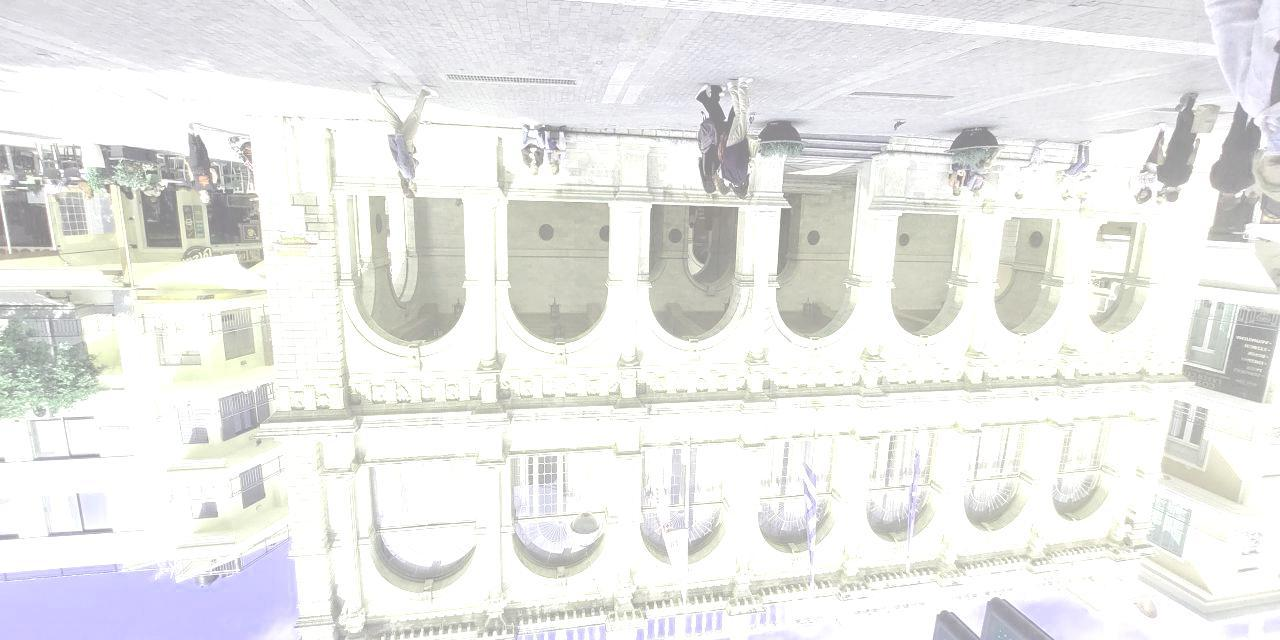Loggia: (232, 113, 1224, 640)
